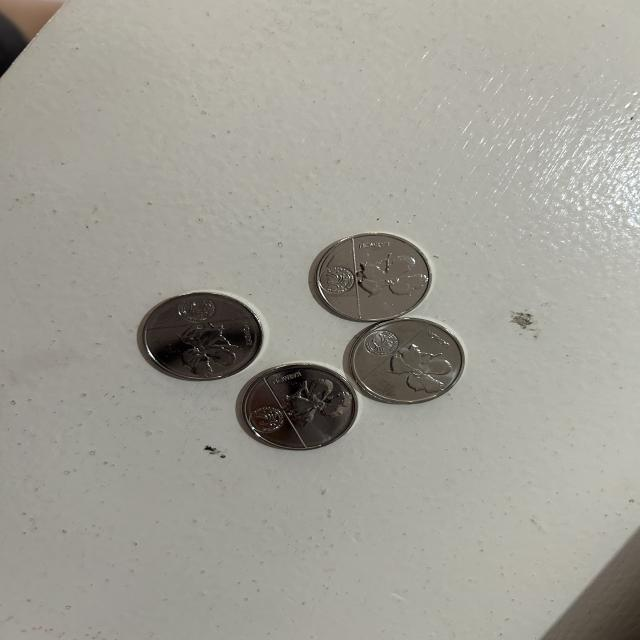25Cent_New_Back: (385, 338, 451, 398), (355, 252, 424, 305), (175, 319, 243, 372), (282, 375, 347, 427)
